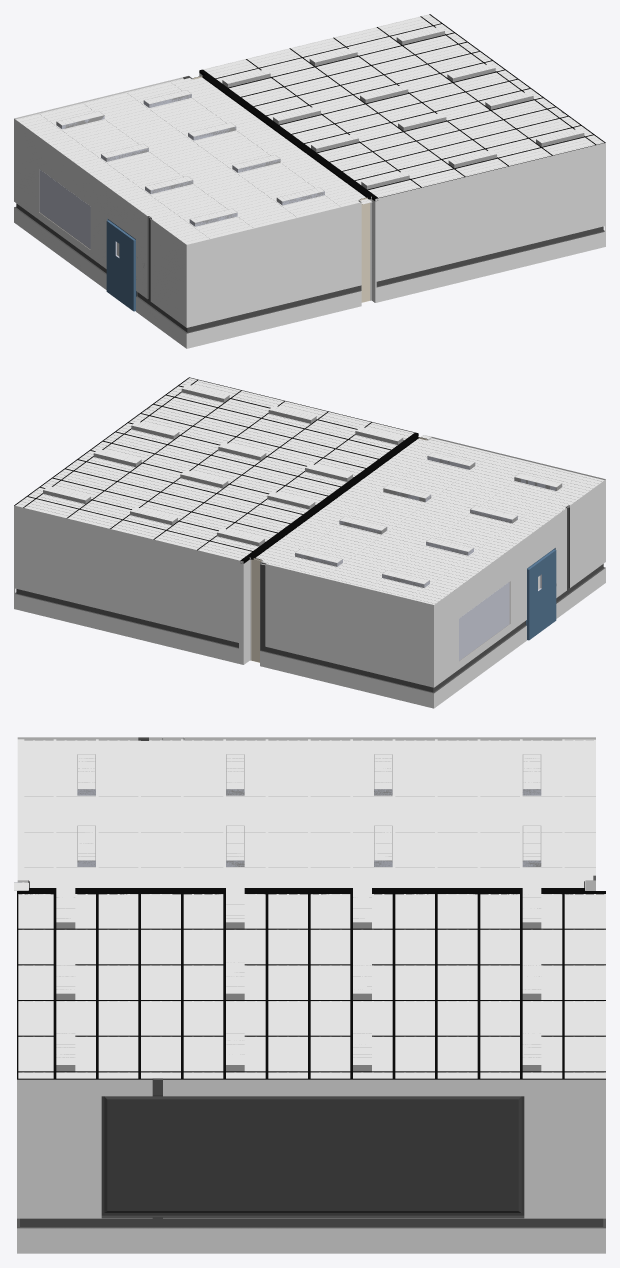
Rendered from alfroom.gltf.
3 renders of one model, top to bottom at view 1: azimuth 30°, elevation 25°; view 2: azimuth 150°, elevation 25°; view 3: azimuth 270°, elevation 25°, orthographic. The views are drawn at different scales.
Visible parts, largest first — view 1: Alf's Room; view 2: Alf's Room; view 3: Alf's Room.
Boxes of the visible parts, left/top/right/bottom form: Alf's Room: left=14, top=14, right=605, bottom=348; Alf's Room: left=14, top=377, right=605, bottom=708; Alf's Room: left=14, top=737, right=605, bottom=1253.
Size of the model in its own units: 11.55 by 2.83 by 8.41.
